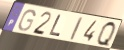2: (32, 11, 52, 36)
4: (82, 21, 99, 43)
G: (17, 9, 36, 32)
I: (69, 16, 84, 42)
L: (47, 14, 62, 38)
Q: (96, 21, 117, 49)
